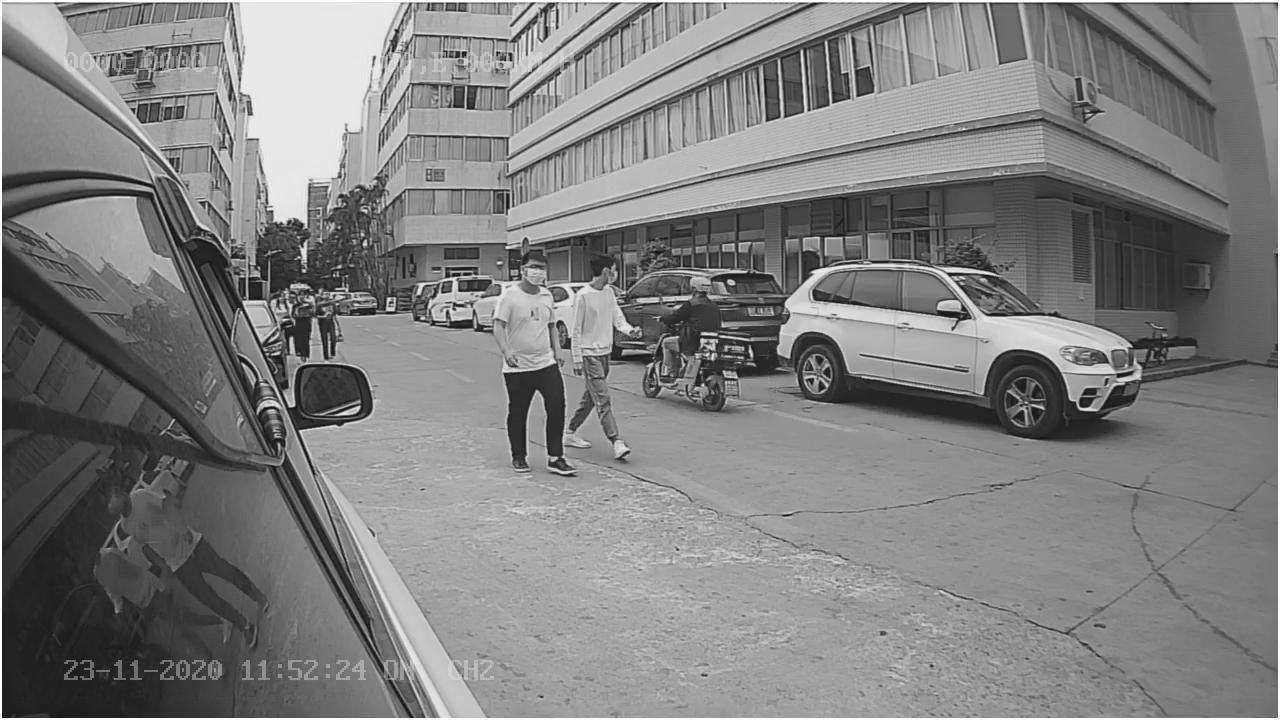person: (567, 253, 639, 460), (498, 246, 563, 468)
